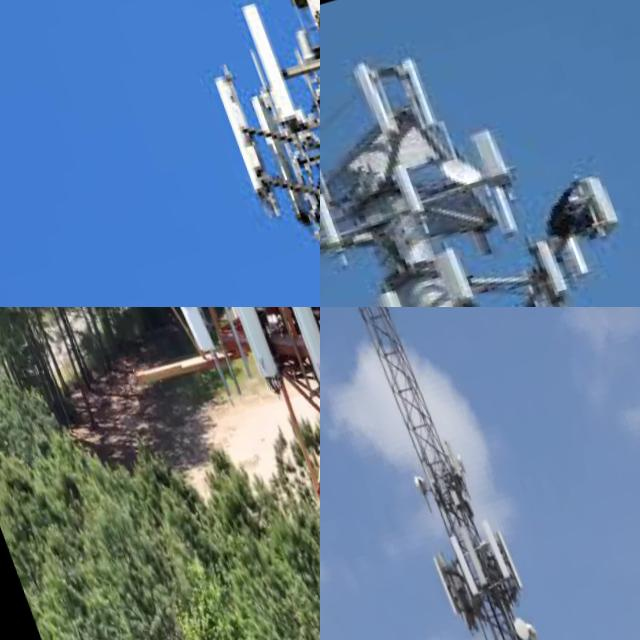GSM Antenna: (202, 68, 274, 211), (231, 0, 301, 129), (379, 42, 454, 145), (325, 48, 397, 143), (192, 307, 279, 385), (248, 307, 320, 395), (565, 164, 626, 247), (414, 233, 478, 307), (149, 307, 219, 370), (517, 239, 566, 302), (415, 549, 453, 629), (445, 519, 483, 597), (469, 511, 506, 590), (434, 528, 471, 605), (461, 125, 510, 183), (291, 0, 320, 82), (320, 192, 352, 266), (486, 529, 518, 600), (362, 285, 418, 307), (432, 431, 455, 477)
Microwave Antenna: (400, 468, 424, 503), (496, 612, 522, 640), (447, 452, 467, 485), (509, 622, 535, 640)
